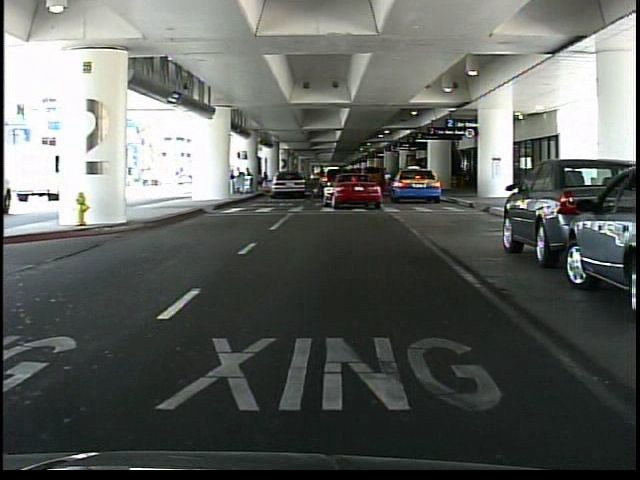person: (315, 165, 325, 198)
